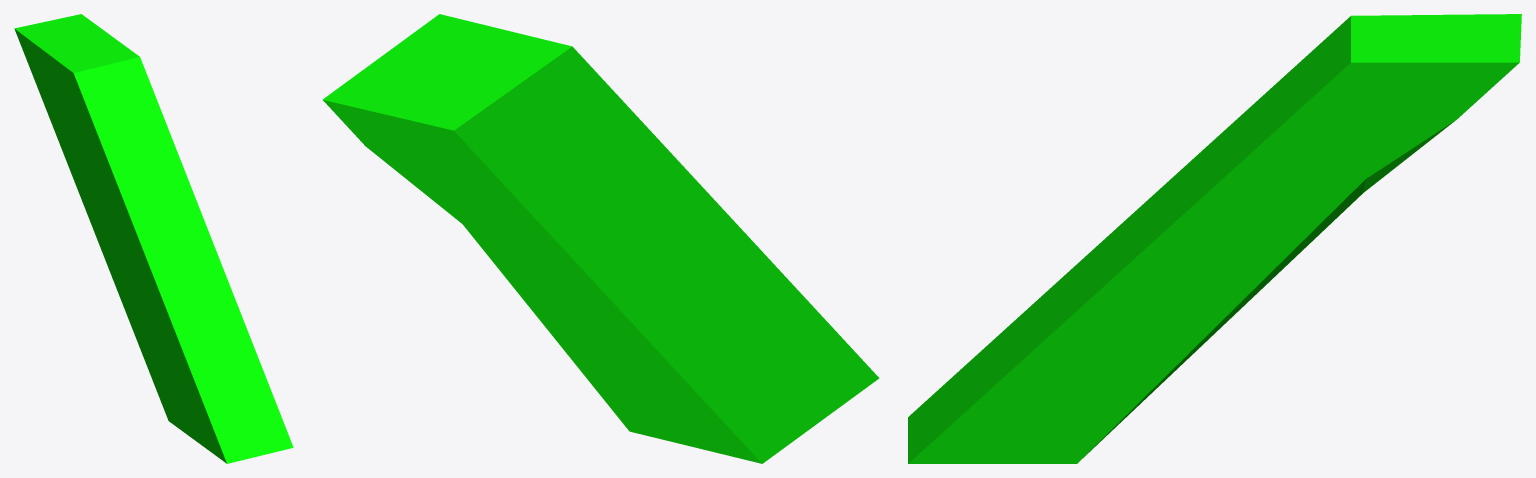
File: SM_Roof_Regular_Truss_Wood_2x1m.fbx
The picture shows the model from 3 angles, left to right: view 1: azimuth 30°, elevation 25°; view 2: azimuth 150°, elevation 25°; view 3: azimuth 270°, elevation 25°; orthographic projection. The views are drawn at different scales.
Visible parts, largest first — view 1: roof-regular-truss-wood-2x1m; view 2: roof-regular-truss-wood-2x1m; view 3: roof-regular-truss-wood-2x1m.
Boxes of the visible parts, x1,y1,x2,y2 form: roof-regular-truss-wood-2x1m: [14, 14, 293, 463]; roof-regular-truss-wood-2x1m: [322, 14, 879, 463]; roof-regular-truss-wood-2x1m: [908, 14, 1521, 463].
Size of the model in its own units: 0.25 by 1 by 1.39.
